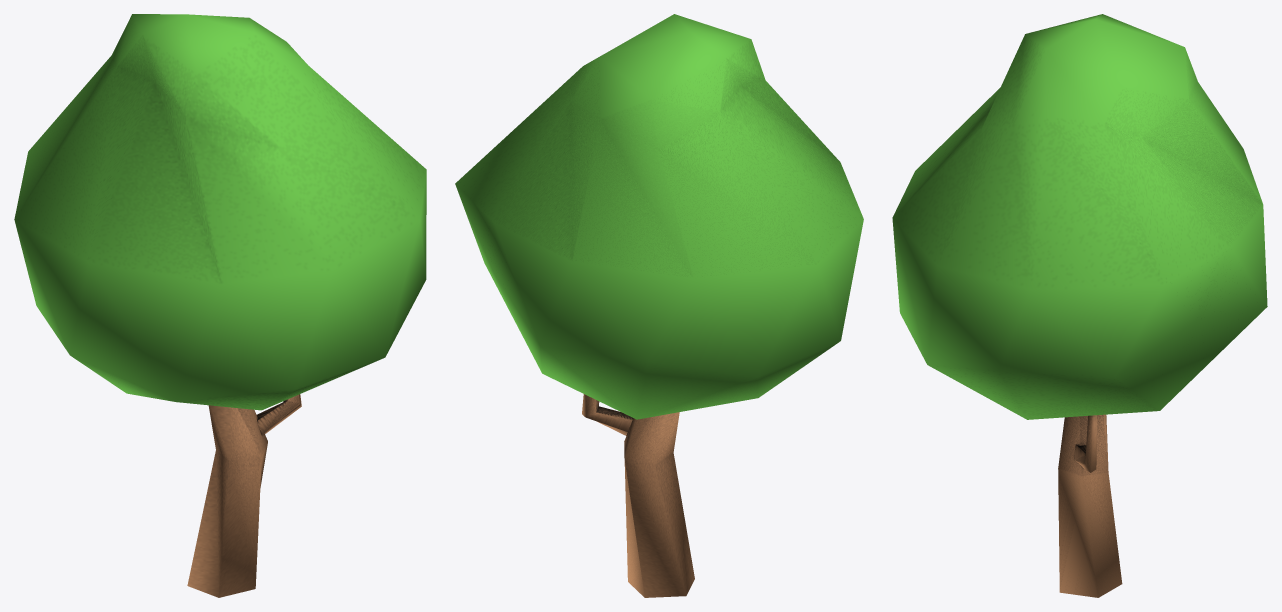
The model's file is Tree.glb.
3 views of the same model, side by side, from view 1: azimuth 30°, elevation 25°; view 2: azimuth 150°, elevation 25°; view 3: azimuth 270°, elevation 25° (orthographic). The views are drawn at different scales.
Parts seen in each view (by area): view 1: Tree; view 2: Tree; view 3: Tree.
Boxes of the visible parts, x1,y1,x2,y2 form: Tree: (14, 14, 426, 597); Tree: (455, 14, 863, 597); Tree: (892, 14, 1267, 597).
Bounding box in the file's own units: 11.43 × 17.53 × 10.85.
1 material, 1 textured.
